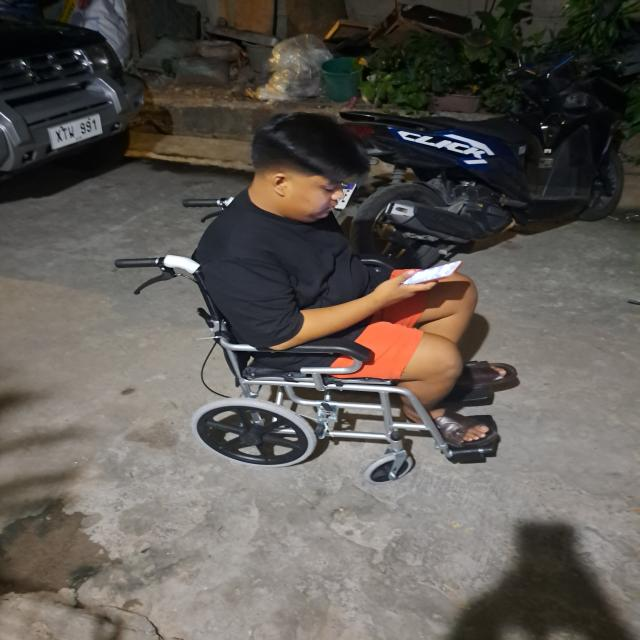wheelchairs: (117, 236, 519, 487)
